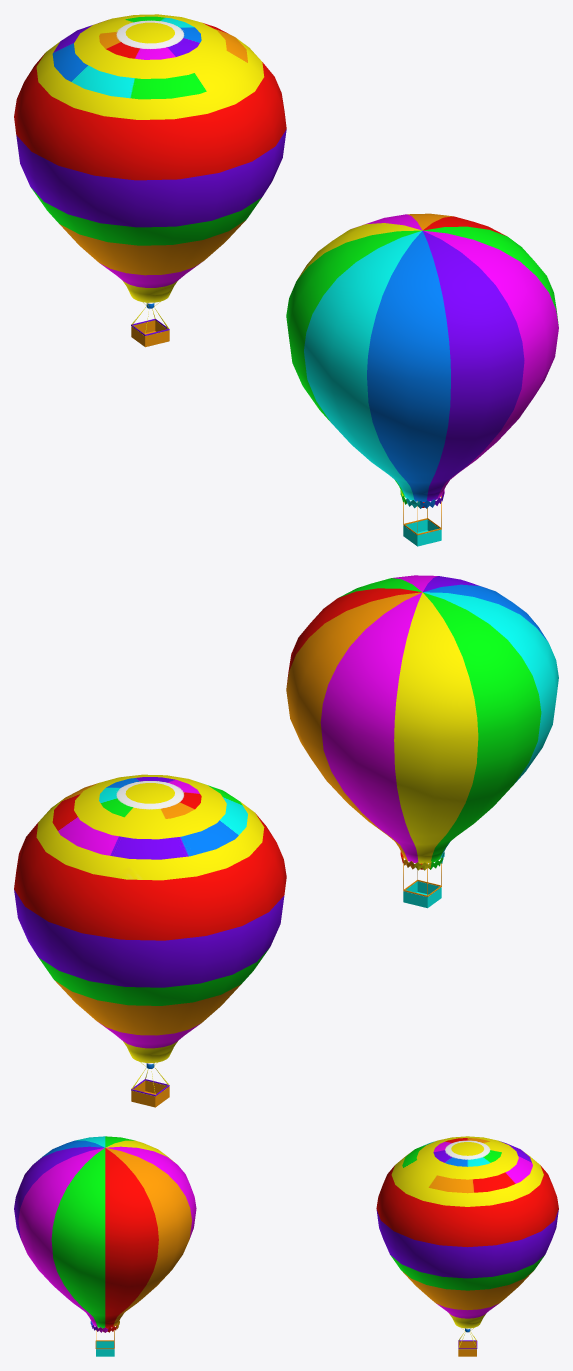
The model's file is hot air baloon.fbx.
3 views of the same model, one above another, from view 1: azimuth 30°, elevation 25°; view 2: azimuth 150°, elevation 25°; view 3: azimuth 270°, elevation 25° (orthographic). The views are drawn at different scales.
Parts seen in each view (by area): view 1: globo2, globo3; view 2: globo2, globo3; view 3: globo2, globo3.
Boxes of the visible parts, left/top/right/bottom form: globo2: left=286, top=213, right=558, bottom=546; globo3: left=14, top=14, right=286, bottom=347; globo2: left=286, top=575, right=558, bottom=908; globo3: left=14, top=774, right=286, bottom=1107; globo2: left=14, top=1136, right=196, bottom=1356; globo3: left=376, top=1136, right=558, bottom=1356.
Bounding box in the file's own units: 2621 × 3248 × 7826.
Materials: 1 (1 with a texture image).
